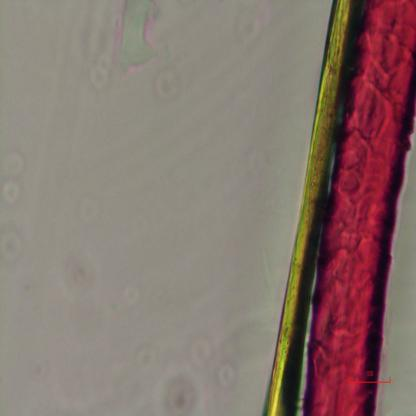Background material: (116, 0, 157, 73), (0, 151, 28, 213), (163, 372, 198, 414), (152, 66, 180, 104), (216, 358, 238, 388)
Hair textile: (300, 0, 416, 415)
Microfibre: (267, 1, 356, 415)
